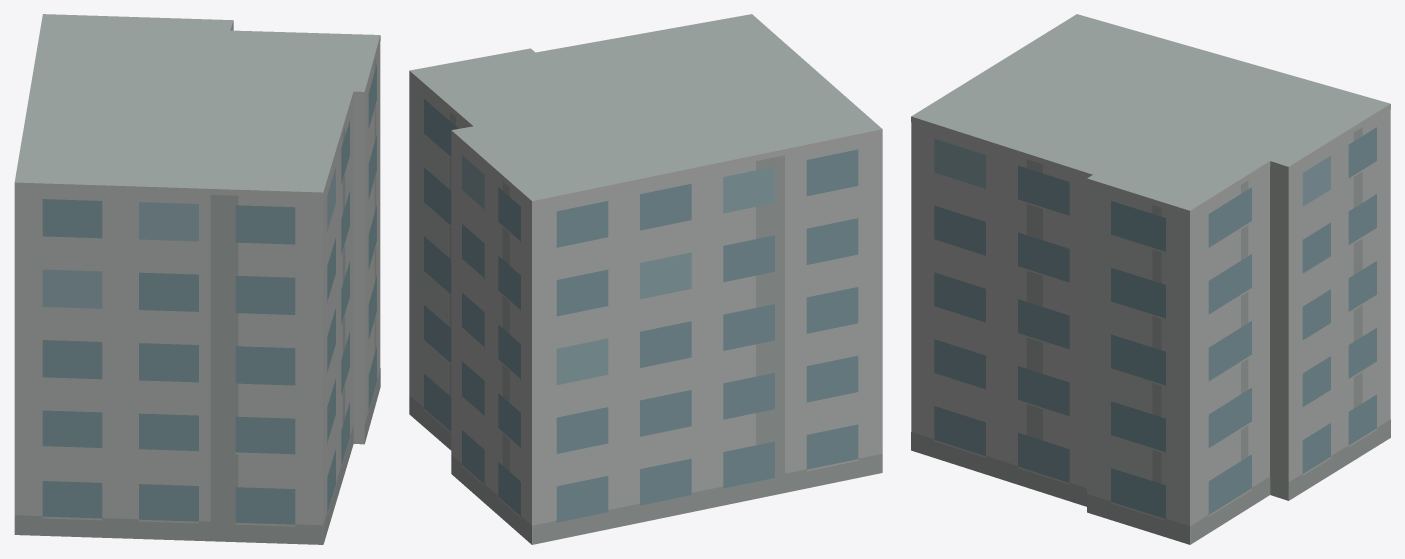
File: survey-upis-32844543.glb
The picture shows the model from 3 angles, left to right: view 1: azimuth 30°, elevation 25°; view 2: azimuth 150°, elevation 25°; view 3: azimuth 270°, elevation 25°; orthographic projection. The views are drawn at different scales.
Parts seen in each view (by area): view 1: survey-upis-32844543.tmp; view 2: survey-upis-32844543.tmp; view 3: survey-upis-32844543.tmp.
Boxes of the visible parts, box(x1,y1,x2,y2) form: survey-upis-32844543.tmp: box(14, 14, 380, 544); survey-upis-32844543.tmp: box(409, 14, 882, 544); survey-upis-32844543.tmp: box(911, 14, 1390, 544).
Size of the model in its own units: 17.83 by 14.1 by 18.36.
